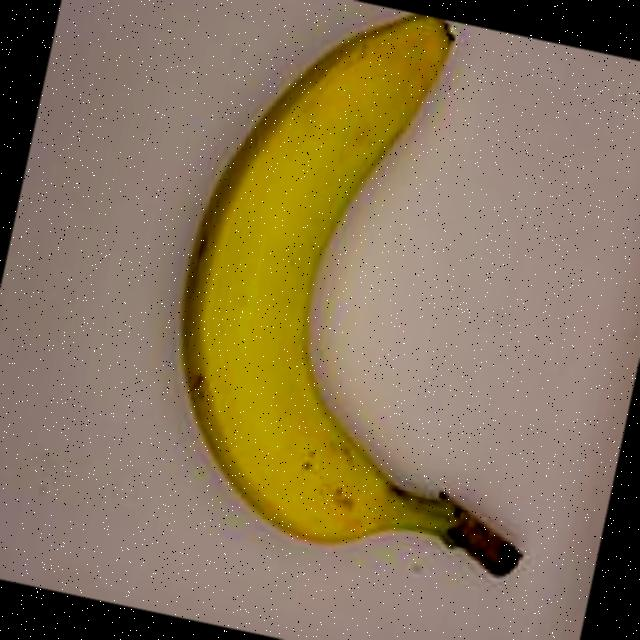Ripe: (67, 0, 640, 629)
